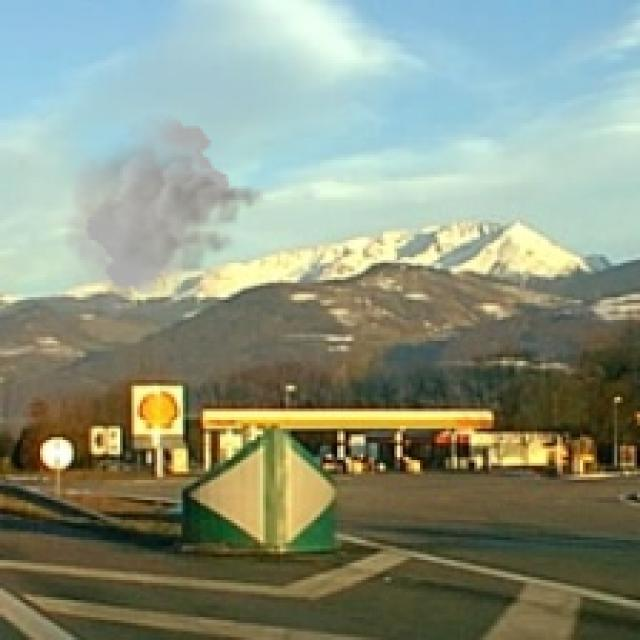Smoke: (57, 114, 272, 326)
